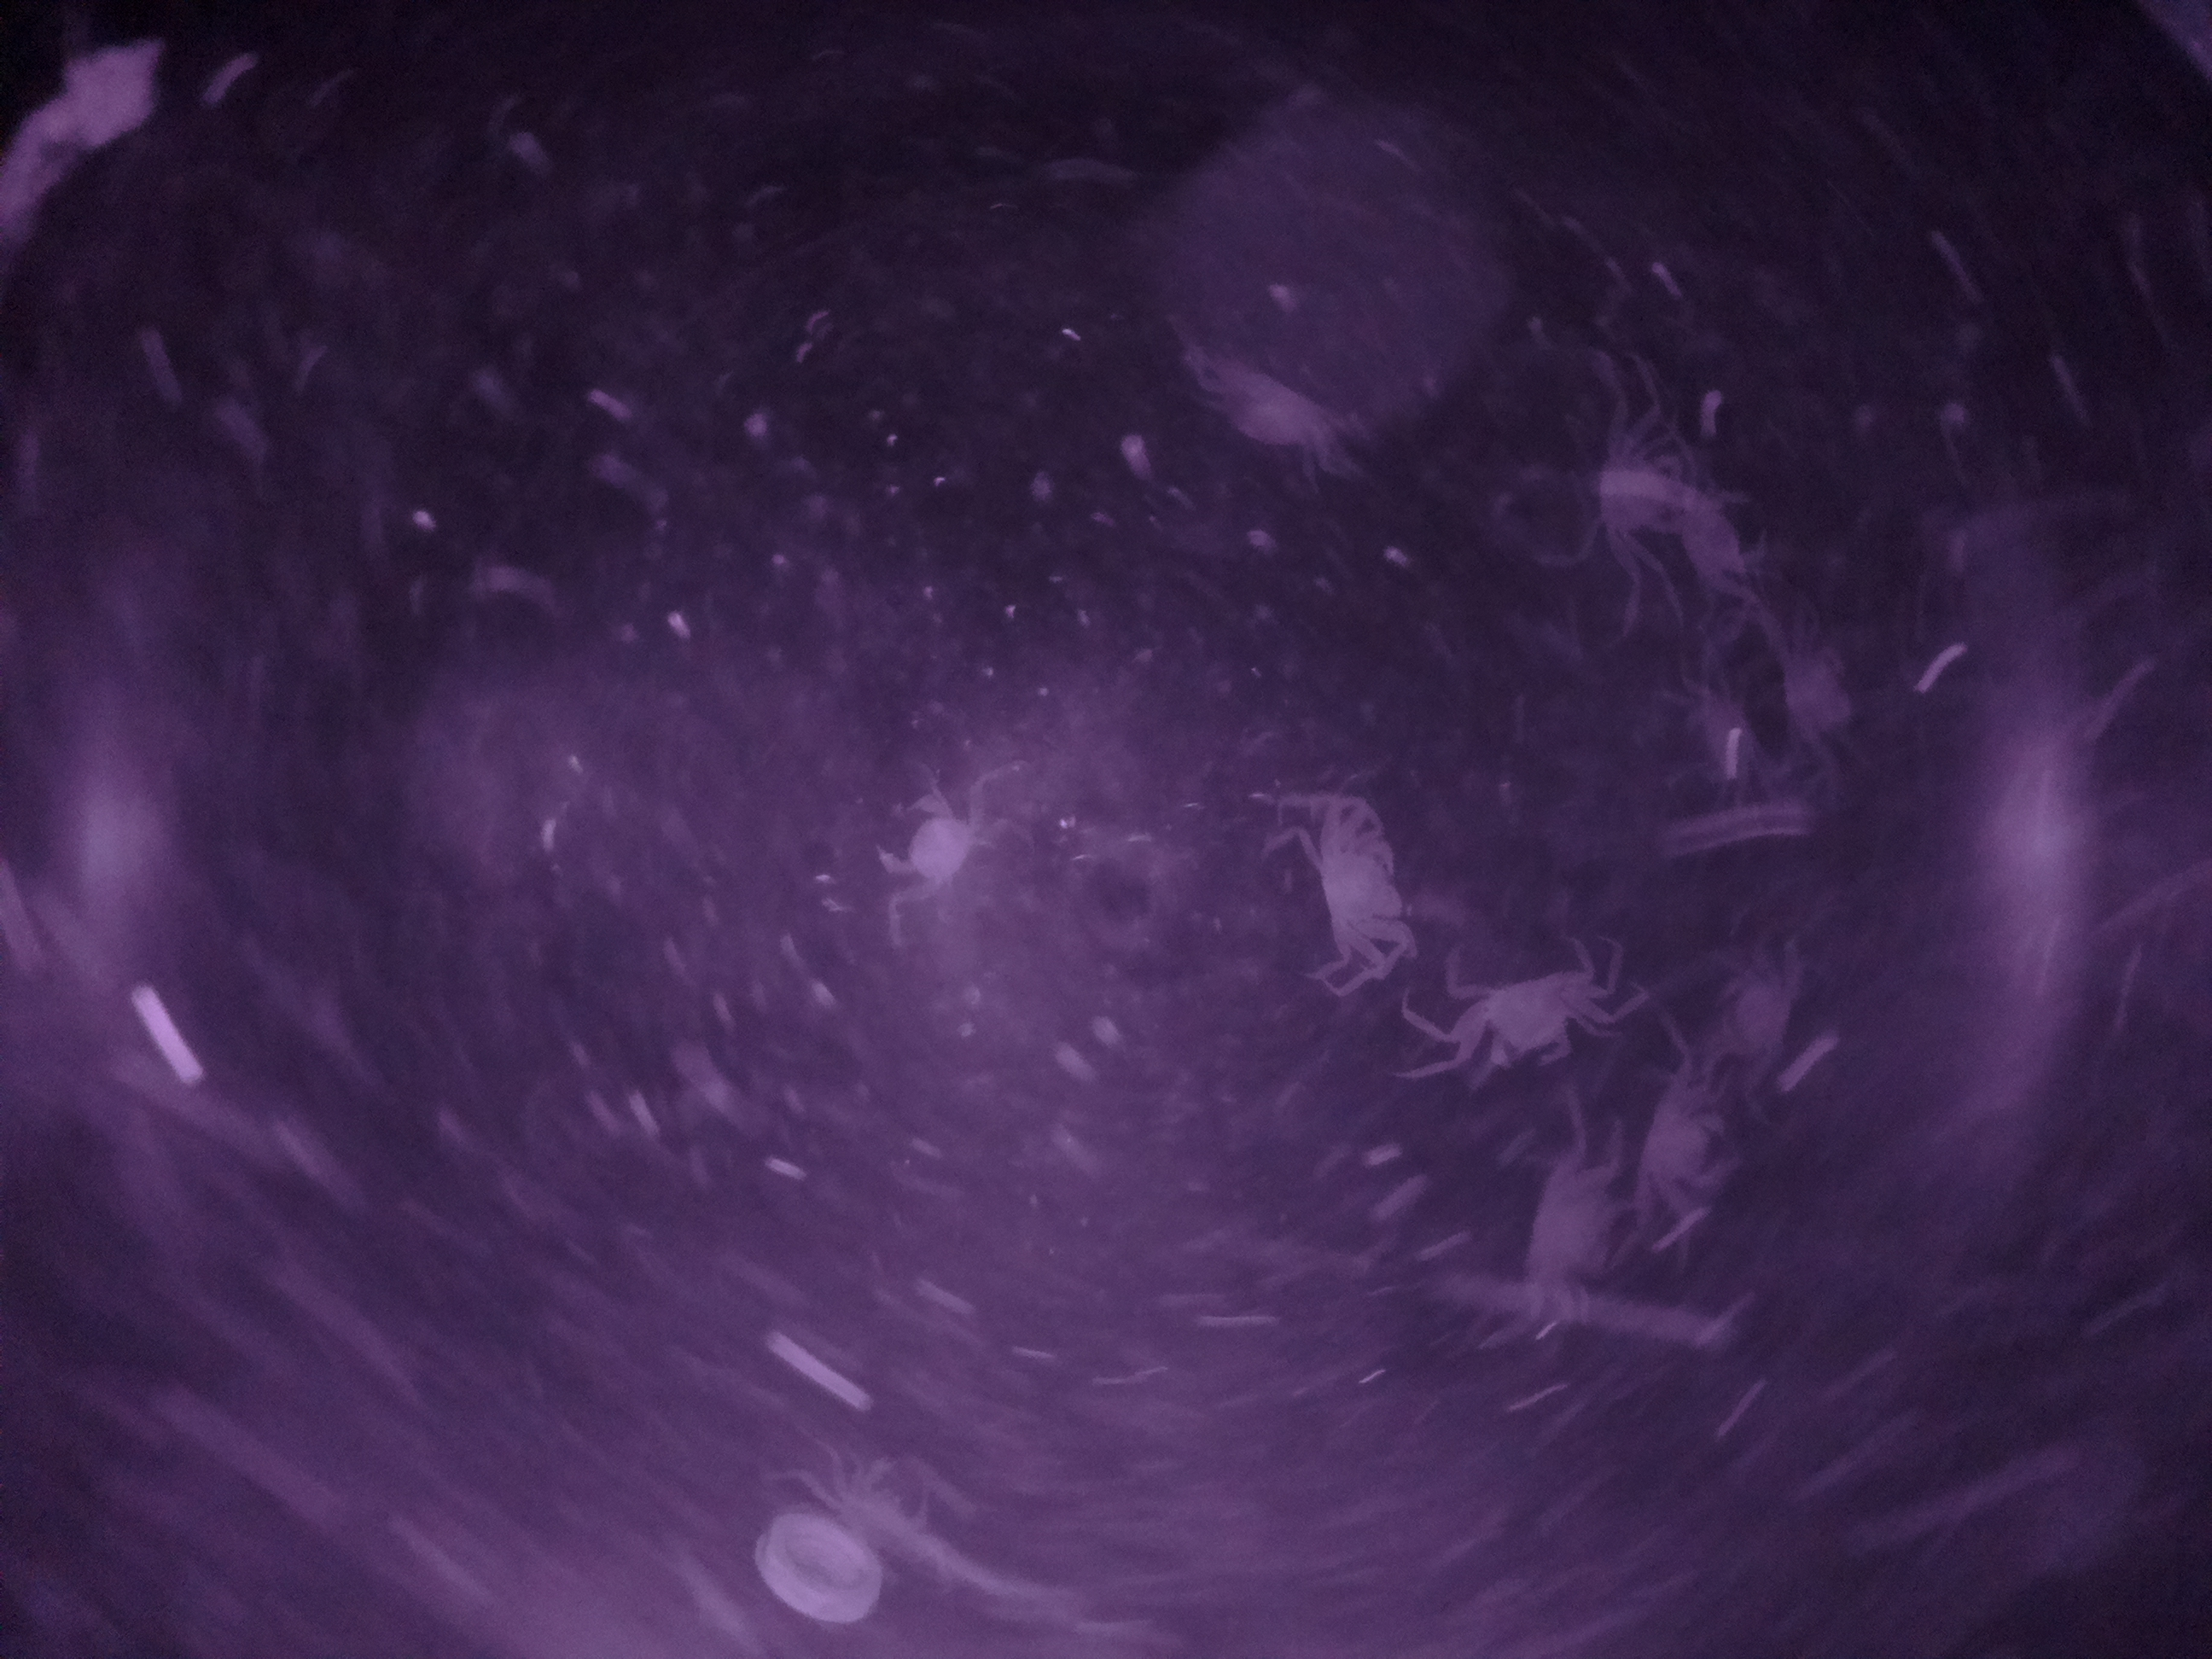Crab: (1426, 939, 1613, 1089), (1280, 796, 1446, 962)
